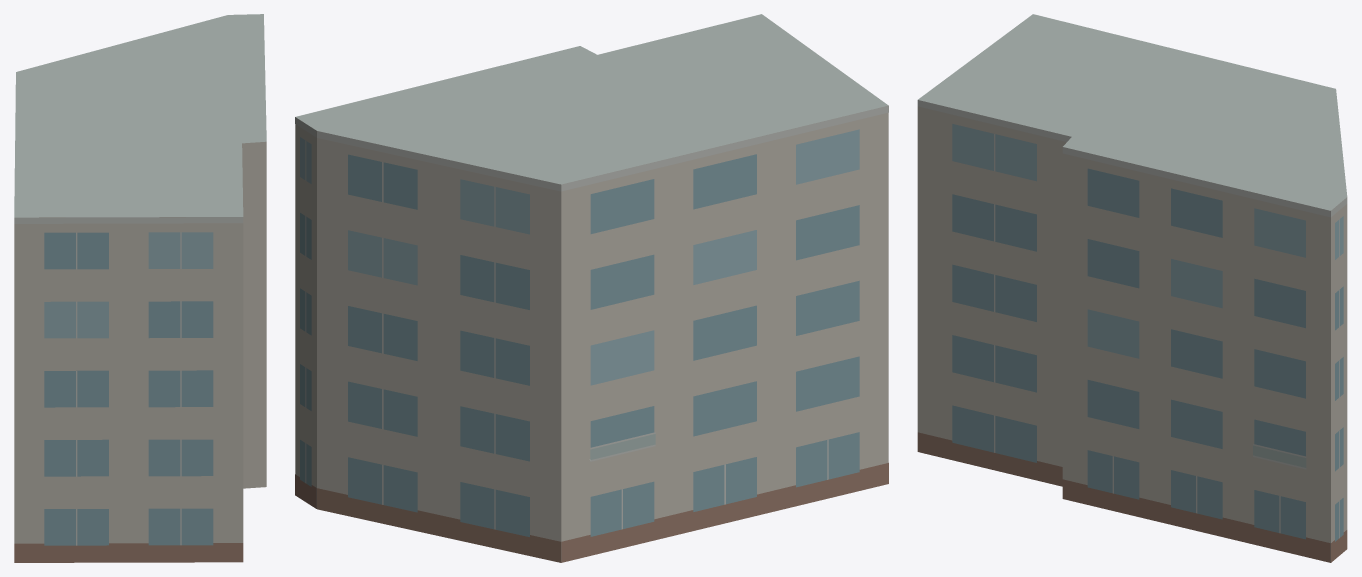
The model's file is survey-upis-32811330.glb.
3 views of the same model, side by side, from view 1: azimuth 30°, elevation 25°; view 2: azimuth 150°, elevation 25°; view 3: azimuth 270°, elevation 25° (orthographic). The views are drawn at different scales.
Parts seen in each view (by area): view 1: survey-upis-32811330.tmp; view 2: survey-upis-32811330.tmp; view 3: survey-upis-32811330.tmp.
Part boxes in pixels (x1=…): survey-upis-32811330.tmp: x1=14, y1=14, x2=266, y2=562; survey-upis-32811330.tmp: x1=295, y1=14, x2=888, y2=562; survey-upis-32811330.tmp: x1=917, y1=14, x2=1347, y2=562.
Size of the model in its own units: 15.72 by 13.1 by 14.5.
